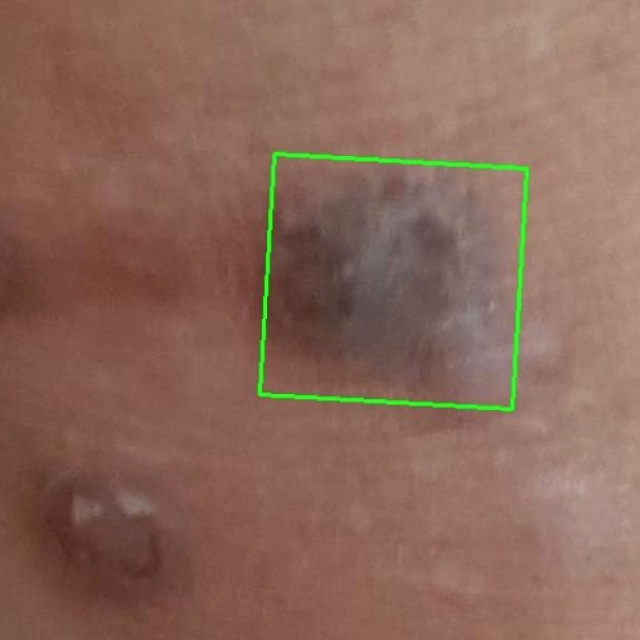Contact Dermatitis: (259, 154, 525, 409)
